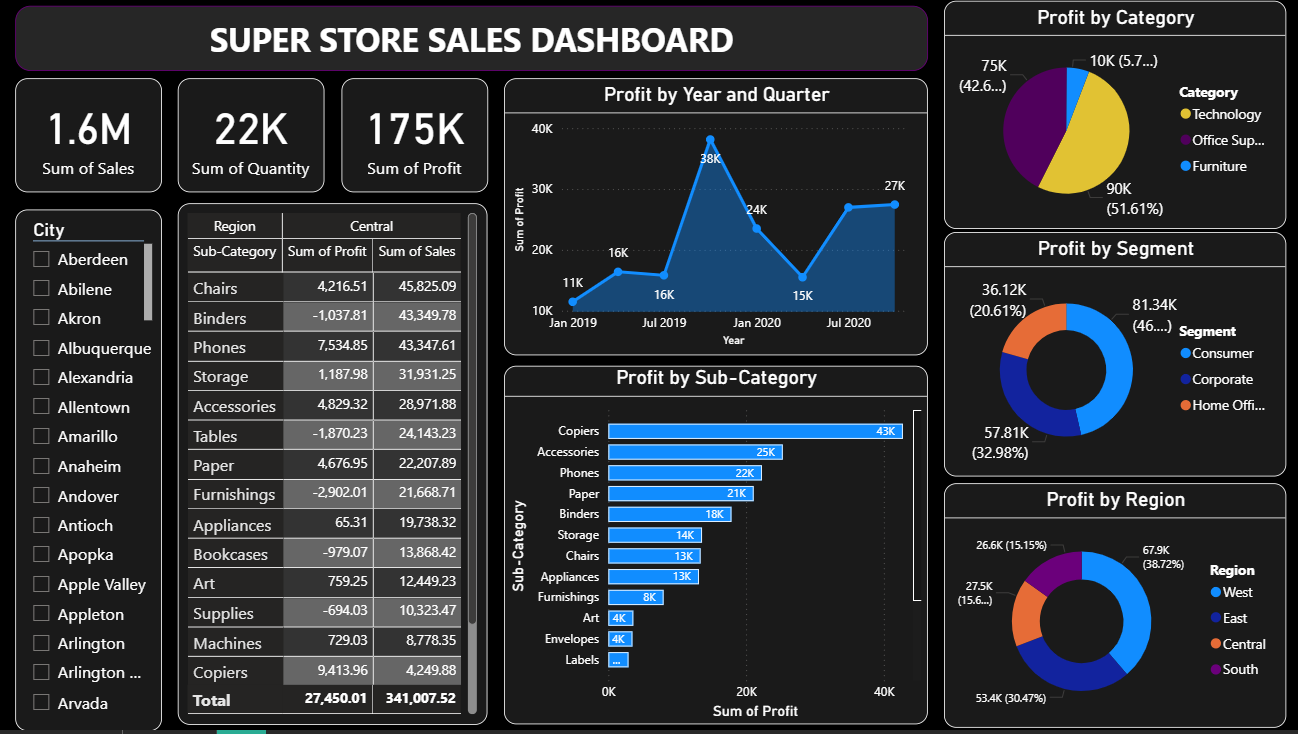

This screenshot's page, from the dashboard's own definition file:
{"tool":"powerbi","page":{"name":"Page 1","canvas":[1280,720],"ordinal":0},"visuals":[{"type":"textbox","box":[16,9,896,64],"z":0},{"type":"card","fields":{"Values":["Sum(Sheet1.Sales)"]},"box":[16,80,144,112],"z":1000},{"type":"card","fields":{"Values":["Sum(Sheet1.Quantity)"]},"box":[176,80,144,112],"z":2000},{"type":"lineChart","title":"Profit by Year and Quarter","fields":{"Y":["Sum(Sheet1.Profit)"],"Category":["Sheet1.Order Date.Variation.Date Hierarchy.Year","Sheet1.Order Date.Variation.Date Hierarchy.Quarter"]},"box":[496,80,416,272],"z":3000},{"type":"card","fields":{"Values":["Sum(Sheet1.Profit)"]},"box":[336,80,144,112],"z":4000},{"type":"pieChart","title":"Profit by Category","fields":{"Category":["Sheet1.Category"],"Y":["Sum(Sheet1.Profit)"]},"box":[928,4,336,224],"z":5000},{"type":"donutChart","title":"Profit by Segment","fields":{"Category":["Sheet1.Segment"],"Y":["Sum(Sheet1.Profit)"]},"box":[928,231,336,240],"z":6000},{"type":"donutChart","title":"Profit by Region","fields":{"Category":["Sheet1.Region","Sheet1.Category"],"Y":["Sum(Sheet1.Profit)"]},"box":[928,477,336,240],"z":7000},{"type":"barChart","title":"Profit by Sub-Category","fields":{"Category":["Sheet1.Sub-Category"],"Y":["Sum(Sheet1.Profit)"]},"box":[496,362,416,352],"z":8000},{"type":"pivotTable","fields":{"Rows":["Sheet1.Sub-Category"],"Values":["Sum(Sheet1.Profit)","Sum(Sheet1.Sales)"],"Columns":["Sheet1.Region"]},"box":[176,203,304,512],"z":9000},{"type":"slicer","fields":{"Values":["Sheet1.City"]},"box":[16,208,144,512],"z":10000}]}

Visuals, with their boxes in screenshot pixels (x1, y1, x2, y2), scaled from the page's 1280x720 canvas onto the 1298x734 screenshot:
textbox: locate(16, 9, 925, 74)
card - Sum(Sheet1.Sales): locate(16, 82, 162, 196)
card - Sum(Sheet1.Quantity): locate(178, 82, 324, 196)
"Profit by Year and Quarter" lineChart: locate(503, 82, 925, 359)
card - Sum(Sheet1.Profit): locate(341, 82, 487, 196)
"Profit by Category" pieChart: locate(941, 4, 1282, 232)
"Profit by Segment" donutChart: locate(941, 235, 1282, 480)
"Profit by Region" donutChart: locate(941, 486, 1282, 731)
"Profit by Sub-Category" barChart: locate(503, 369, 925, 728)
pivotTable - Sheet1.Sub-Category x Sum(Sheet1.Profit): locate(178, 207, 487, 729)
slicer - Sheet1.City: locate(16, 212, 162, 733)
